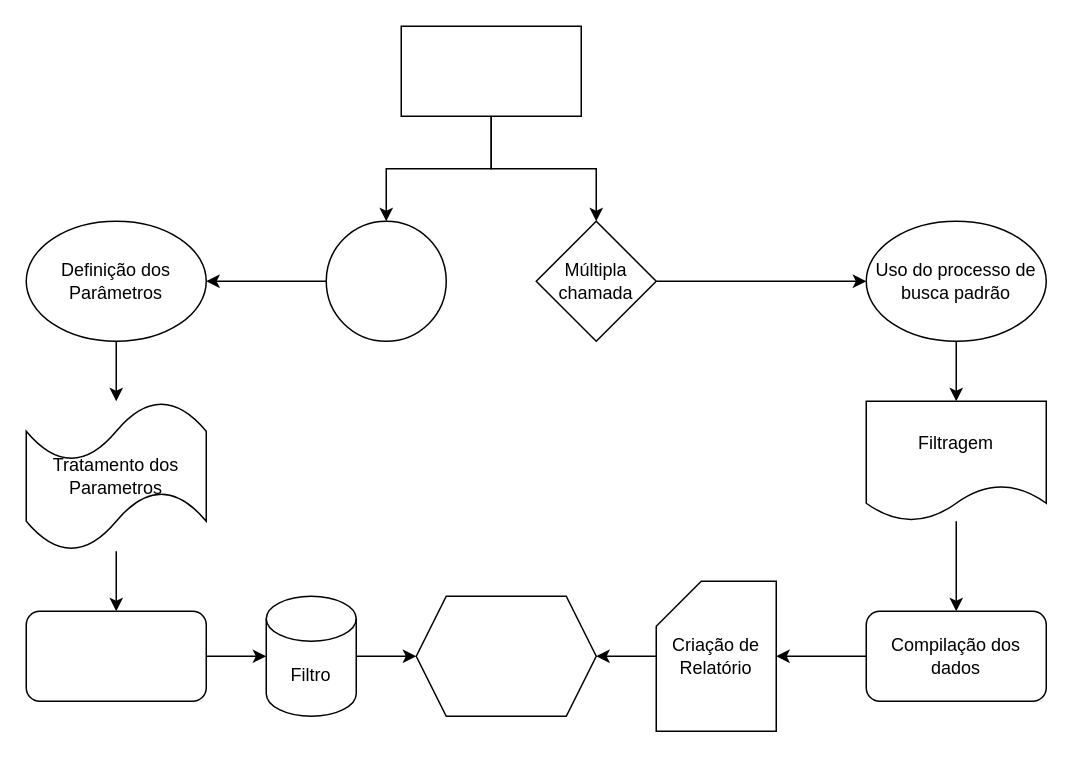
The diagram is 1073 pixels wide and 758 high, and some of its shapes have lost their labels. Here are the shapes that lost their labels. From the top down, the centre of each, then its label:
At pixel 490 70: "Iniciação".
At pixel 385 280: "Primeiro Chamado".
At pixel 115 655: "Armazenamento dos primeiros dados".
At pixel 505 655: "Envio das Projeção".
